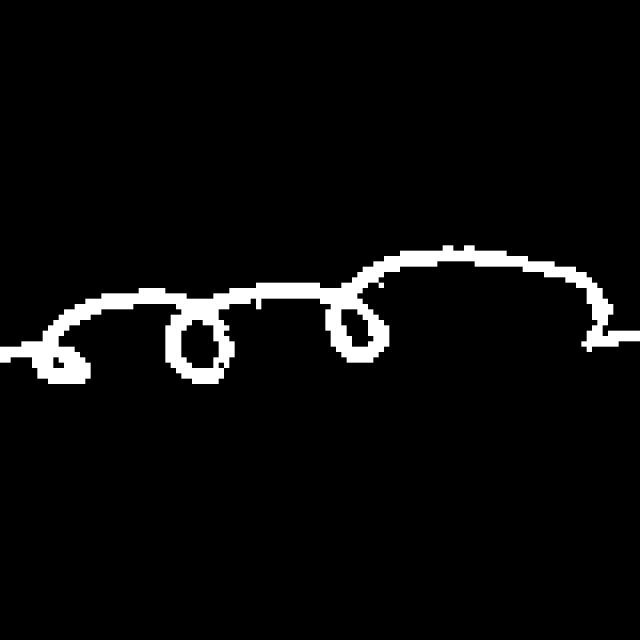inductor: (16, 231, 622, 421)
